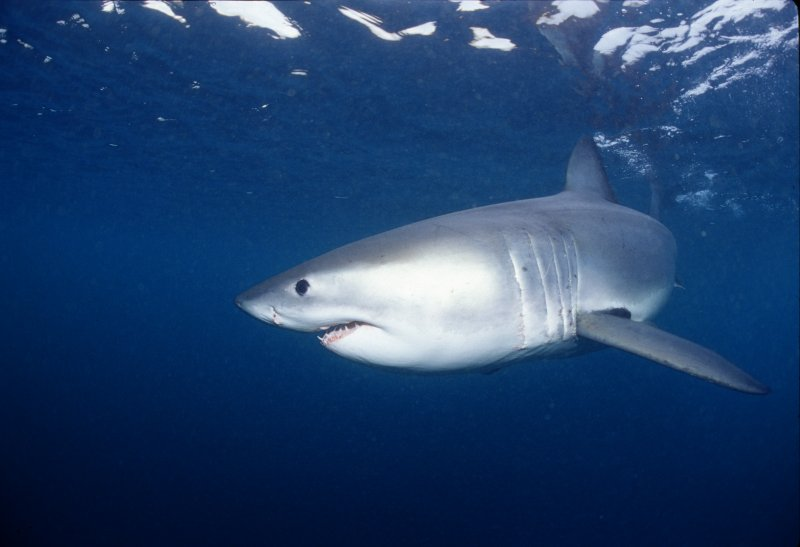Carcharodon_carcharias: (225, 131, 783, 418)
